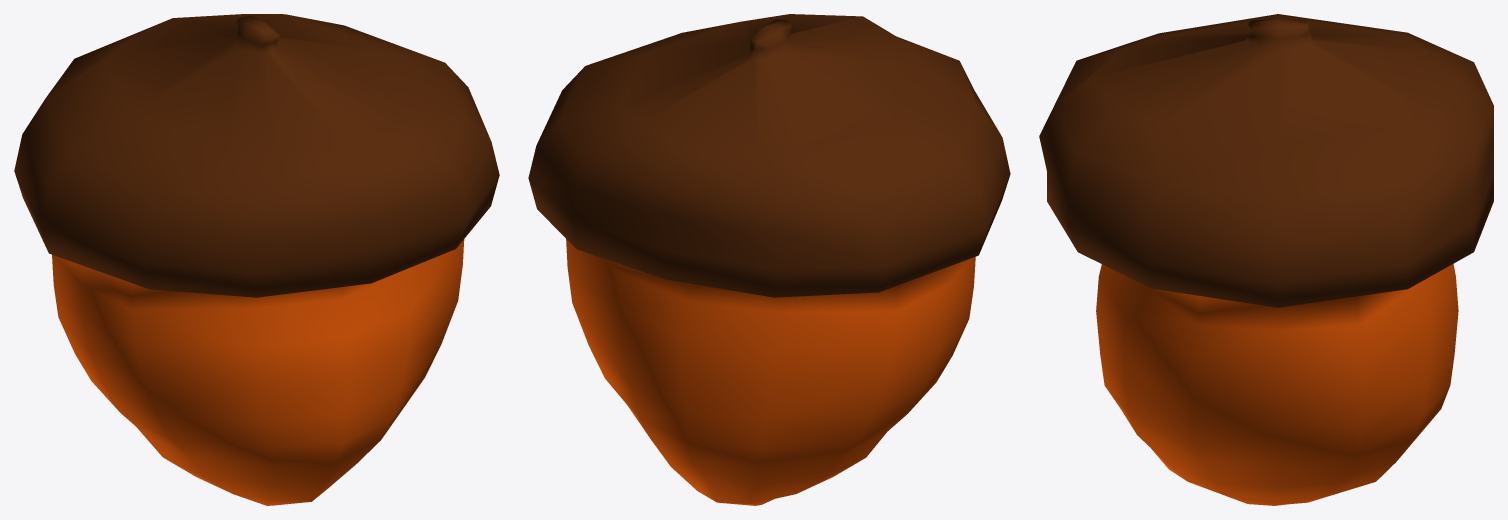
Rendered from bellota.fbx.
3 views of the same model, side by side, from view 1: azimuth 30°, elevation 25°; view 2: azimuth 150°, elevation 25°; view 3: azimuth 270°, elevation 25° (orthographic). The views are drawn at different scales.
Parts seen in each view (by area): view 1: bellota; view 2: bellota; view 3: bellota.
Part boxes in pixels (bbox=[...]): bellota: bbox=[14, 14, 499, 505]; bellota: bbox=[528, 14, 1010, 505]; bellota: bbox=[1039, 14, 1493, 505].
Size of the model in its own units: 348 by 361 by 307.
